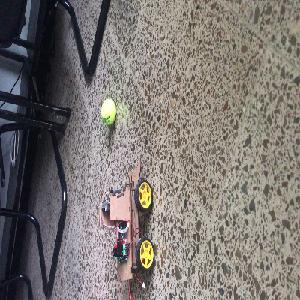Ball: (100, 99, 116, 124)
Robot: (98, 158, 154, 282)
